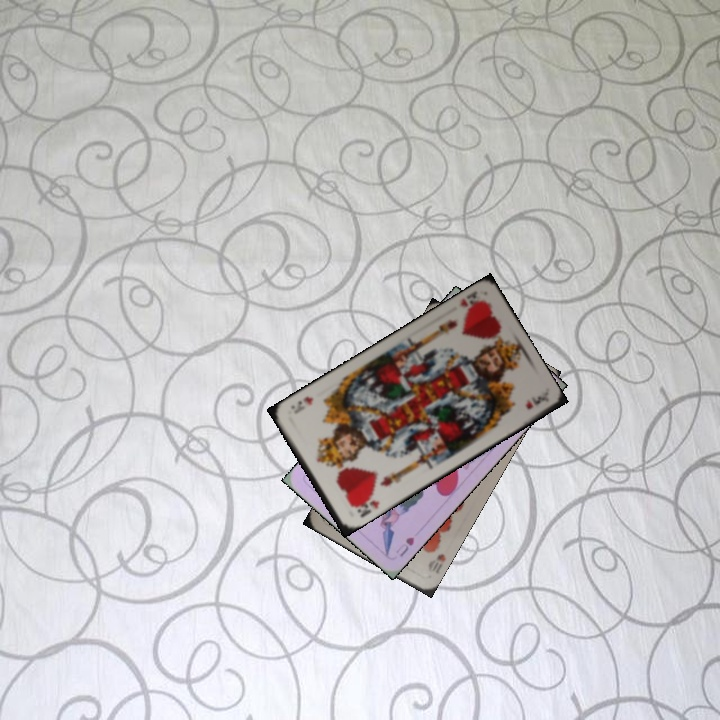H10: (424, 550, 448, 576)
HK: (347, 490, 382, 520), (455, 287, 483, 317)
HU: (391, 533, 417, 560)
